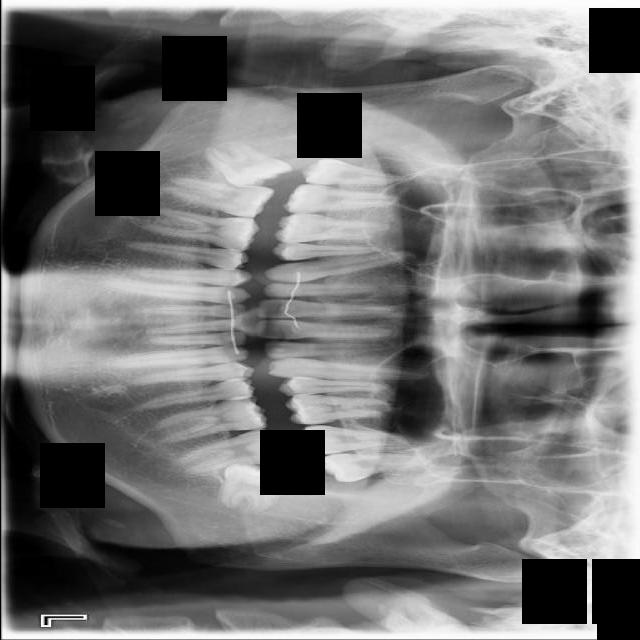3M ESPE Implant: (300, 159, 412, 185)
73: (83, 580, 92, 582)
BioHorizons Implant: (296, 423, 407, 463)
BioLife Implant: (319, 452, 426, 482)
Biomet 3i Implant: (213, 454, 295, 525)
Blue Sky Bio Implant: (173, 425, 291, 478)
Caries: (281, 177, 399, 215)
Implant: (160, 174, 275, 221)
Keystone Dental Implant: (196, 128, 294, 206)
